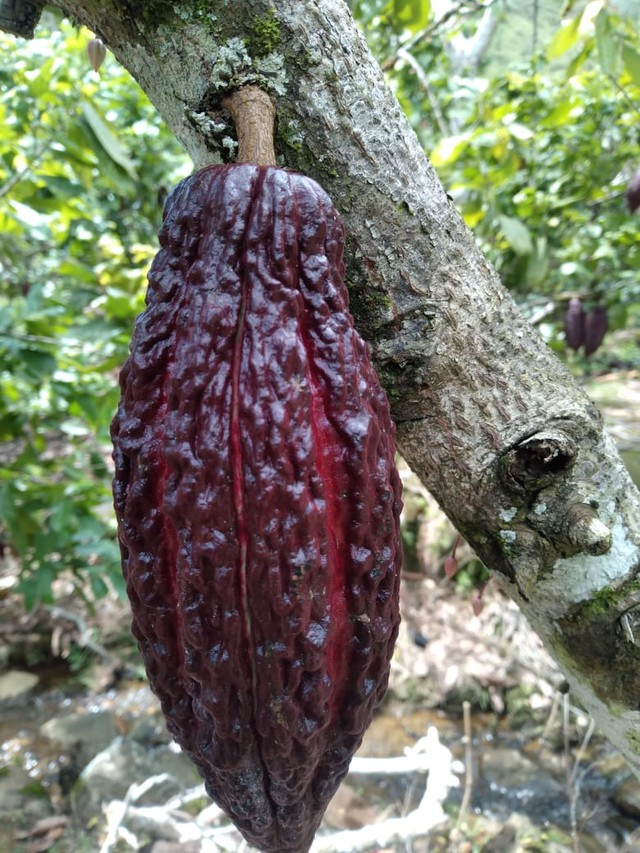Health: (83, 133, 417, 853)
